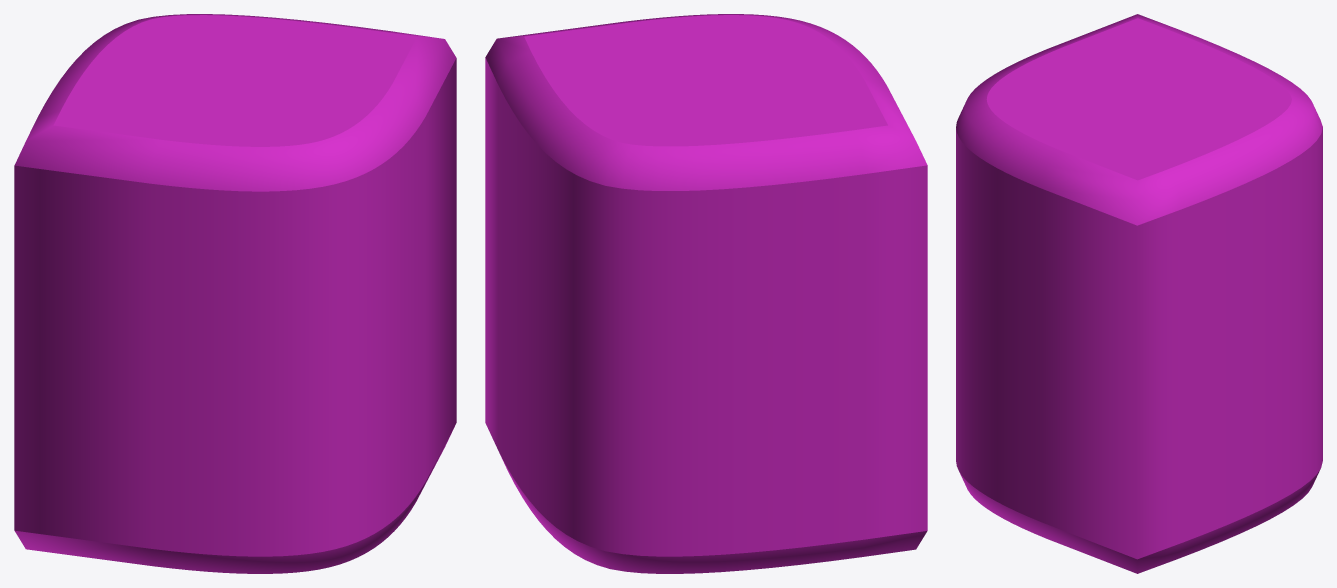
The model's file is FullStop.fbx.
3 renders of one model, left to right at view 1: azimuth 30°, elevation 25°; view 2: azimuth 150°, elevation 25°; view 3: azimuth 270°, elevation 25°, orthographic. The views are drawn at different scales.
Visible parts, largest first — view 1: FullStop; view 2: FullStop; view 3: FullStop.
Boxes of the visible parts, <box> form: FullStop: <box>14,14,456,573</box>; FullStop: <box>485,14,927,573</box>; FullStop: <box>956,14,1322,573</box>.
Bounding box in the file's own units: 0.152 × 0.14 × 0.1196.
